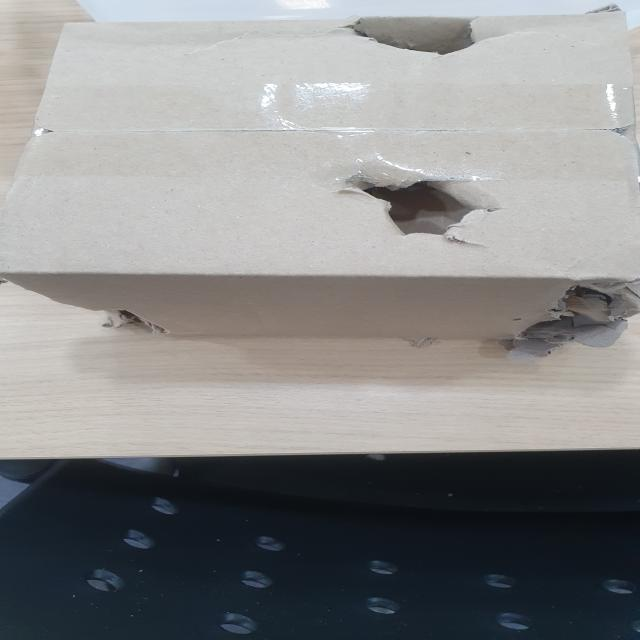hole: (317, 168, 499, 246), (509, 276, 635, 352), (336, 18, 522, 63), (85, 298, 165, 338)
